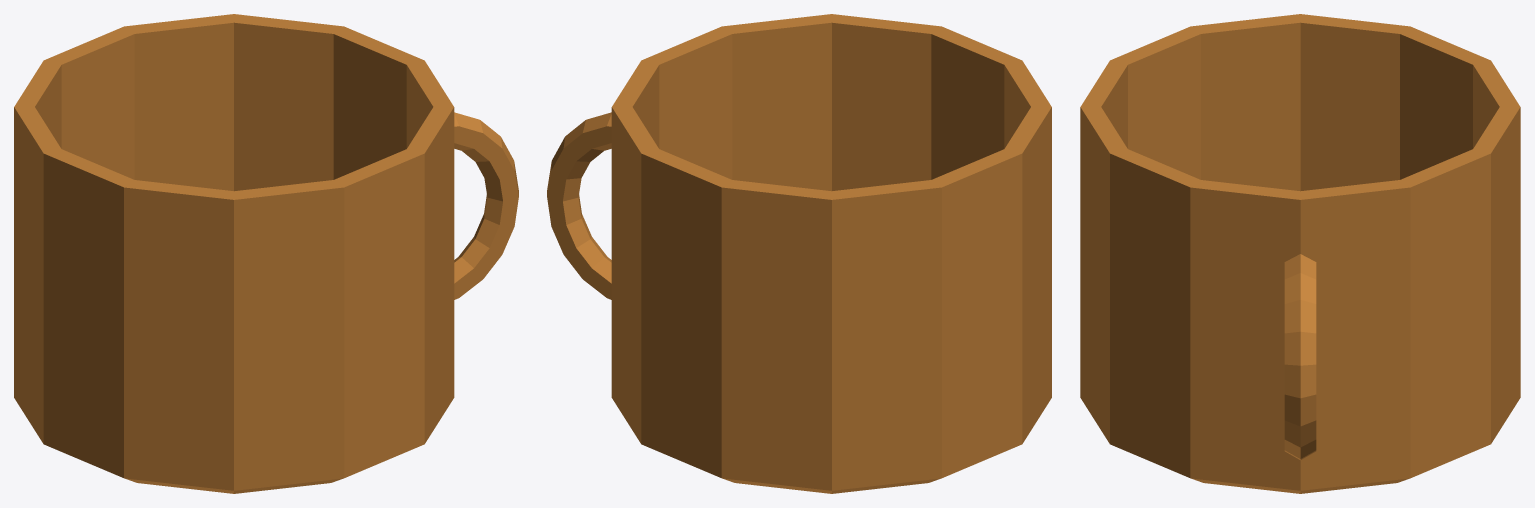
File: coffee_cup.glb
3 views of the same model, side by side, from view 1: azimuth 30°, elevation 25°; view 2: azimuth 150°, elevation 25°; view 3: azimuth 270°, elevation 25° (orthographic).
Parts seen in each view (by area): view 1: Cup; view 2: Cup; view 3: Cup.
Part boxes in pixels (x1,y1,x2,y2): Cup: (14, 14, 518, 493); Cup: (547, 14, 1051, 493); Cup: (1080, 14, 1520, 493).
Size of the model in its own units: 2.12 by 1.3 by 1.7.
